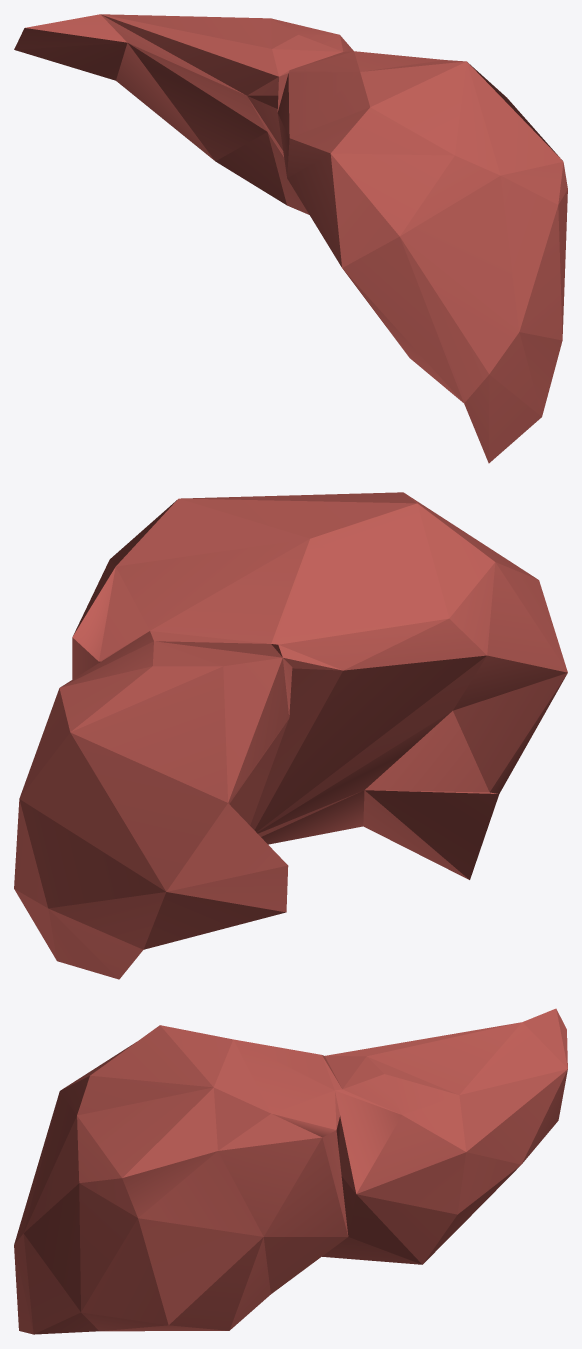
File: Liver.fbx
The picture shows the model from 3 angles, top to bottom: view 1: azimuth 30°, elevation 25°; view 2: azimuth 150°, elevation 25°; view 3: azimuth 270°, elevation 25°; orthographic projection. The views are drawn at different scales.
Parts seen in each view (by area): view 1: Liver; view 2: Liver; view 3: Liver.
Part boxes in pixels (left/top/right/bottom): Liver: left=14, top=14, right=567, bottom=463; Liver: left=14, top=492, right=567, bottom=979; Liver: left=14, top=1008, right=567, bottom=1334.
Bounding box in the file's own units: 9.27 × 8.57 × 15.
